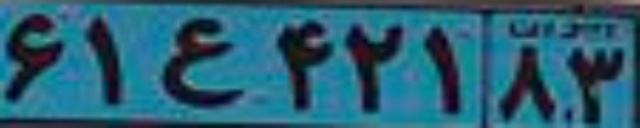1: (82, 15, 126, 105), (420, 25, 463, 112)
2: (342, 22, 406, 113)
3: (562, 44, 631, 124)
4: (274, 21, 333, 109)
6: (2, 15, 62, 104)
8: (496, 44, 556, 120)
ain: (157, 16, 246, 109)
